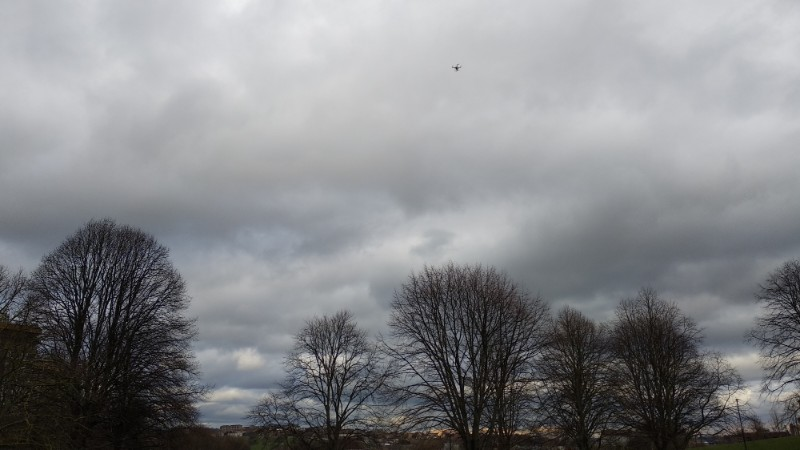drone: (451, 64, 461, 72)
